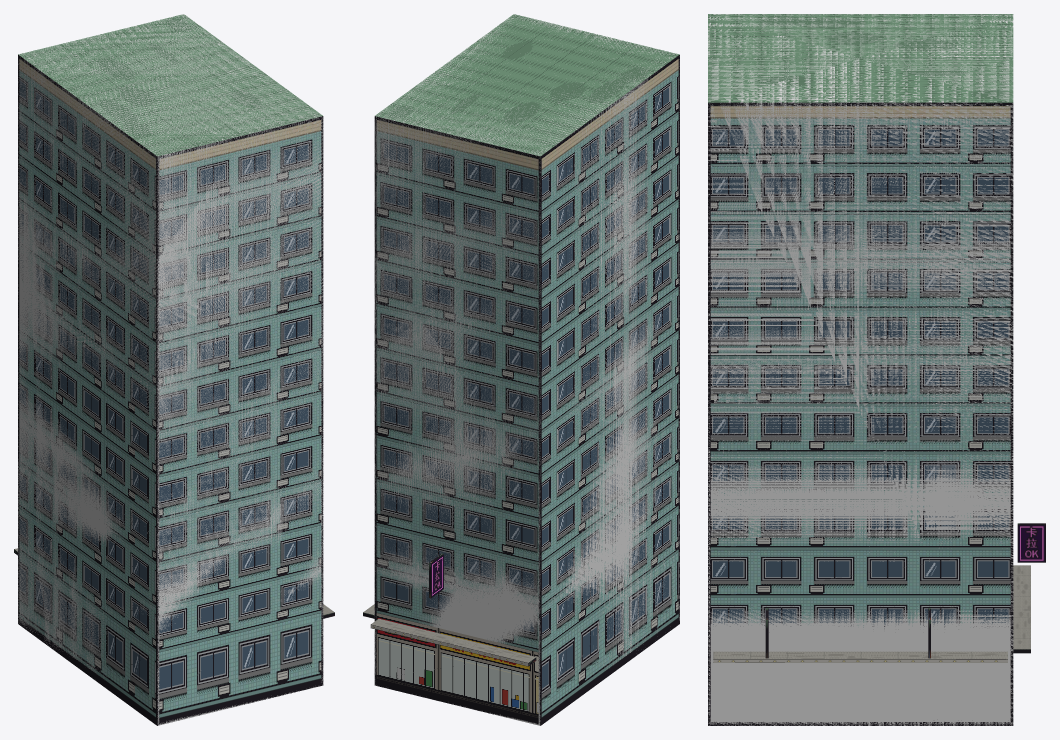
3 renders of one model, left to right at view 1: azimuth 30°, elevation 25°; view 2: azimuth 150°, elevation 25°; view 3: azimuth 270°, elevation 25°, orthographic. The views are drawn at different scales.
Parts seen in each view (by area): view 1: 19D-E03, COL_19D-E03_0; view 2: 19D-E03, COL_19D-E03_0; view 3: 19D-E03, COL_19D-E03_0.
Boxes of the visible parts, x1,y1,x2,y2 form: 19D-E03: [14, 14, 334, 725]; COL_19D-E03_0: [18, 14, 323, 725]; 19D-E03: [363, 14, 679, 725]; COL_19D-E03_0: [374, 14, 679, 725]; 19D-E03: [708, 14, 1045, 725]; COL_19D-E03_0: [708, 14, 1013, 725].
Size of the model in its own units: 13.75 by 39 by 19.15.
Materials: 1 (1 with a texture image).
